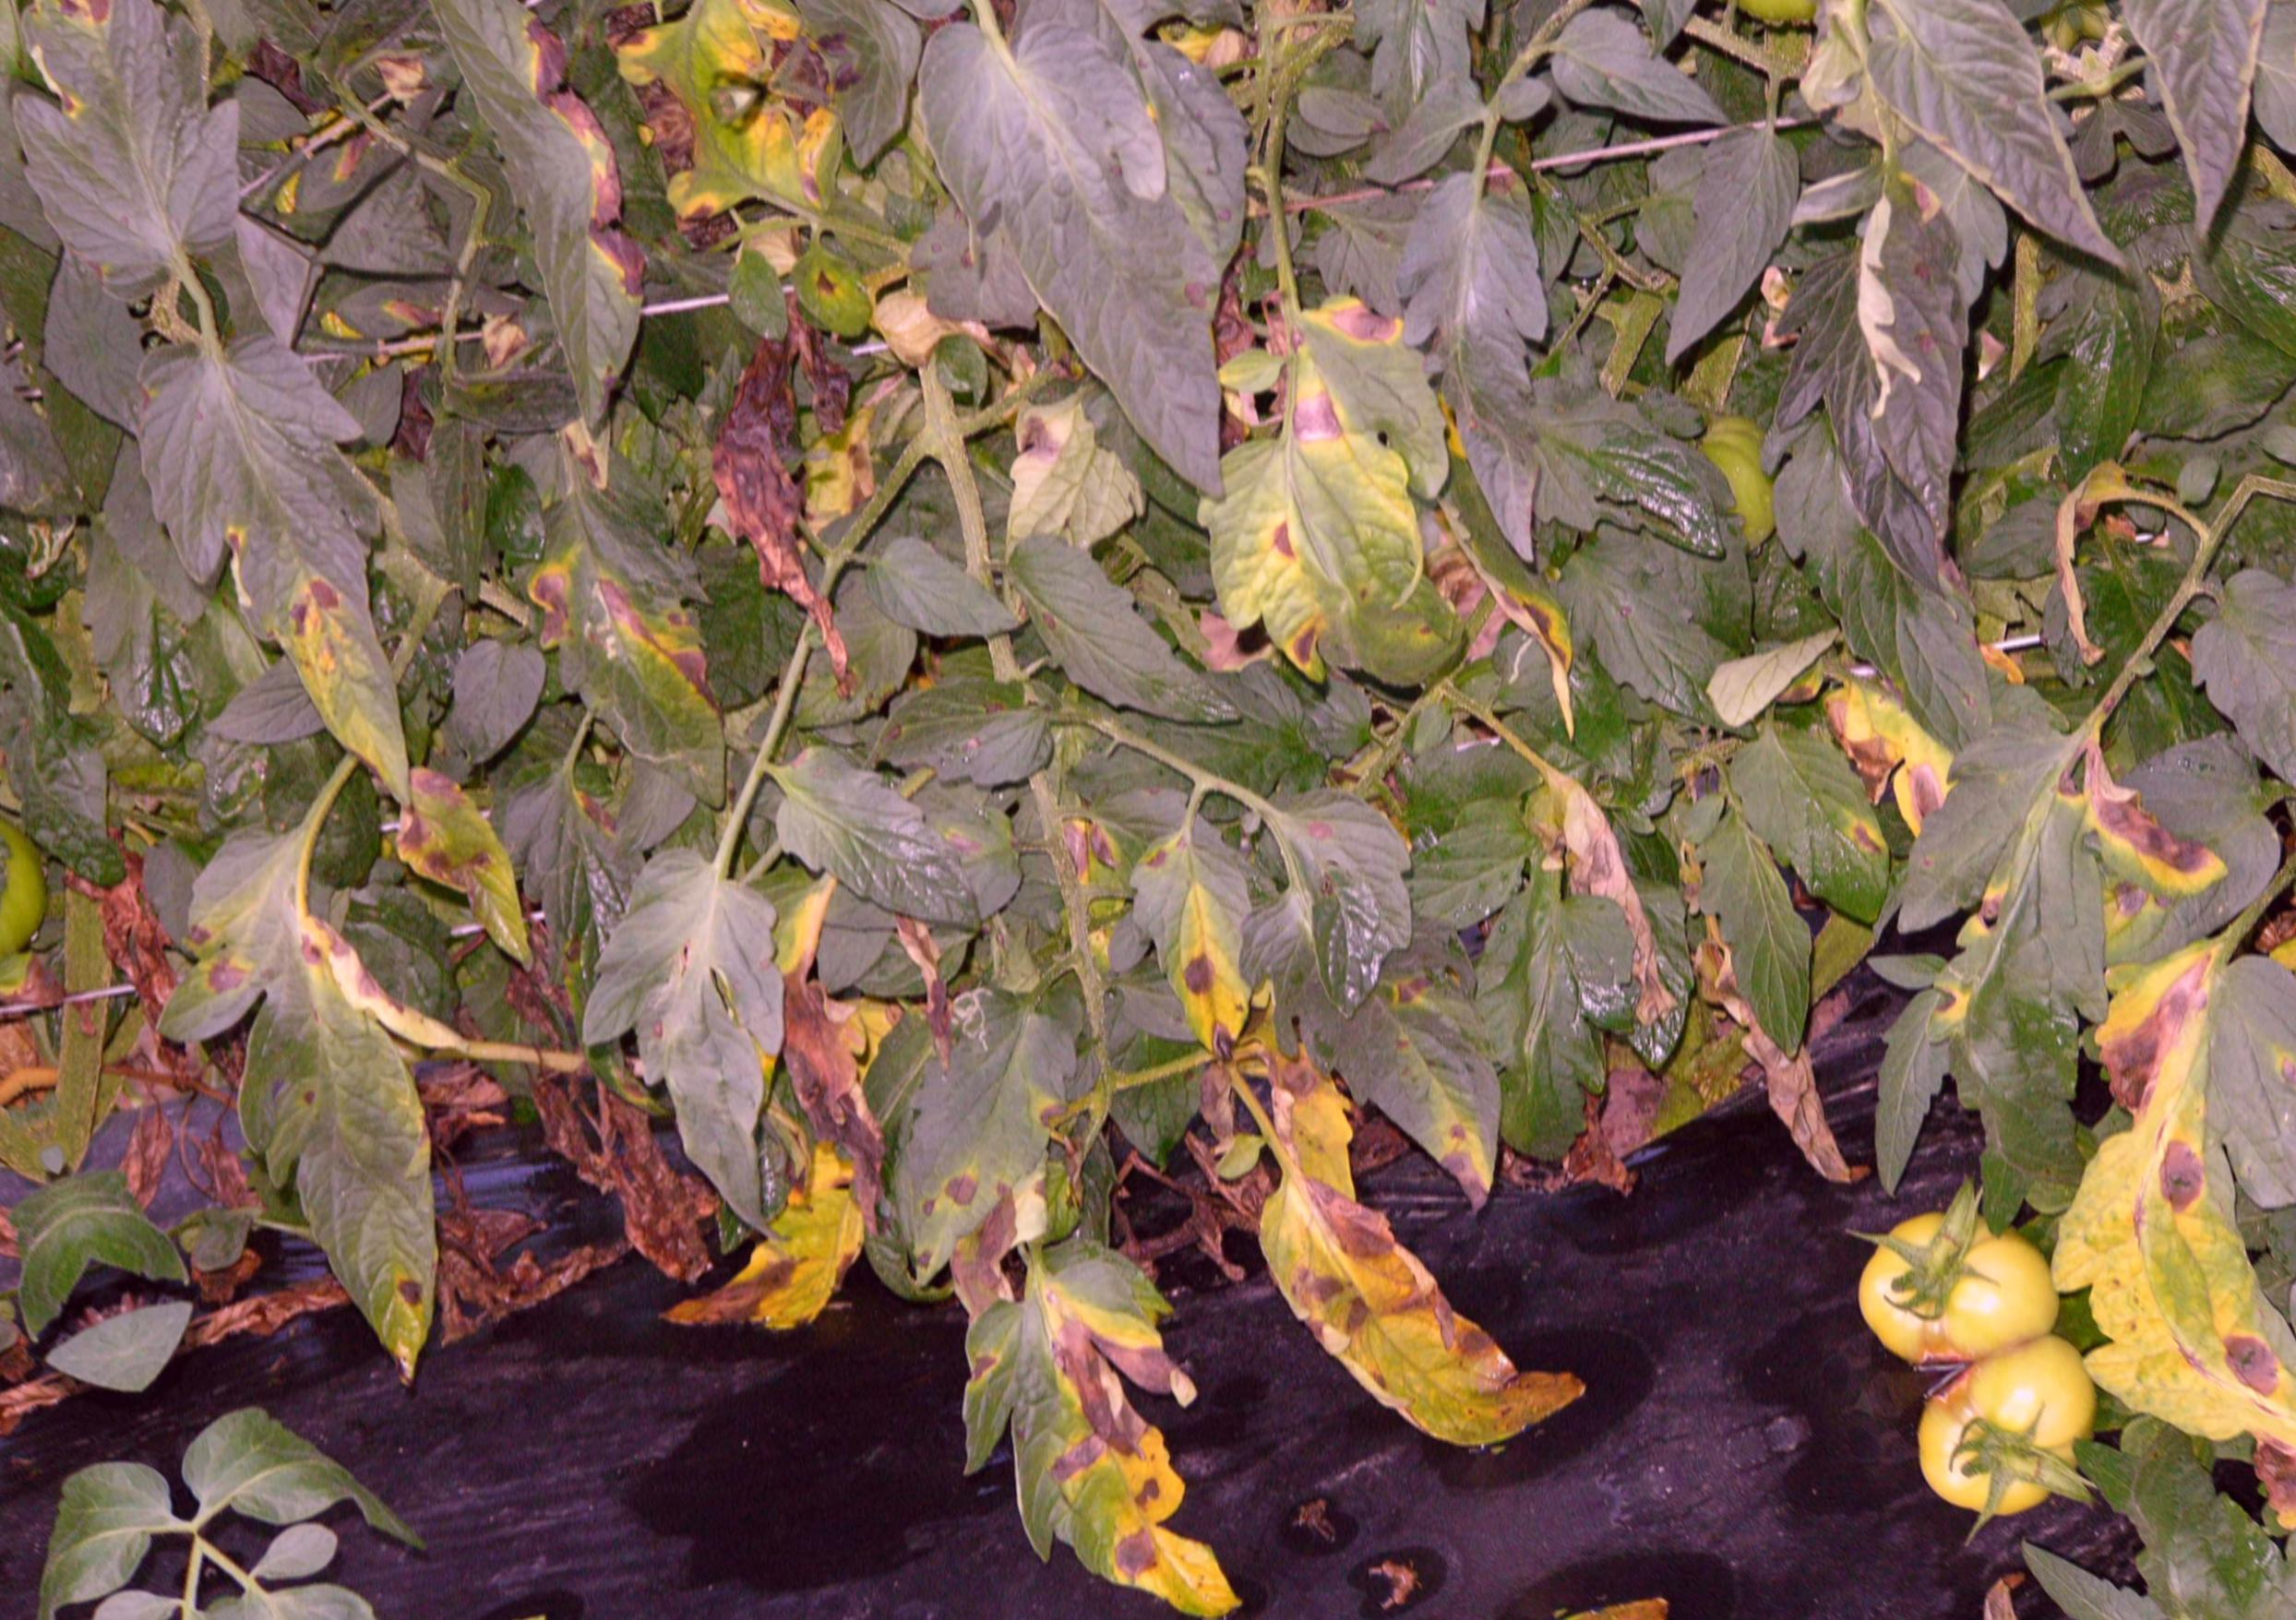Tomato Early blight leaf: (98, 749, 538, 1422), (82, 254, 524, 847), (1194, 1055, 1629, 1595), (935, 1217, 1298, 1620), (1980, 880, 2296, 1313), (486, 403, 795, 842), (1172, 400, 1489, 724), (1693, 682, 1949, 999), (656, 86, 937, 368), (1110, 782, 1312, 1071), (356, 738, 558, 984)
Tomato leaf: (1370, 175, 1619, 589), (1850, 0, 2121, 309), (982, 491, 1251, 794), (747, 700, 1003, 996), (1605, 128, 1829, 361), (2168, 559, 2296, 887), (1533, 0, 1752, 188), (216, 1522, 495, 1620)
